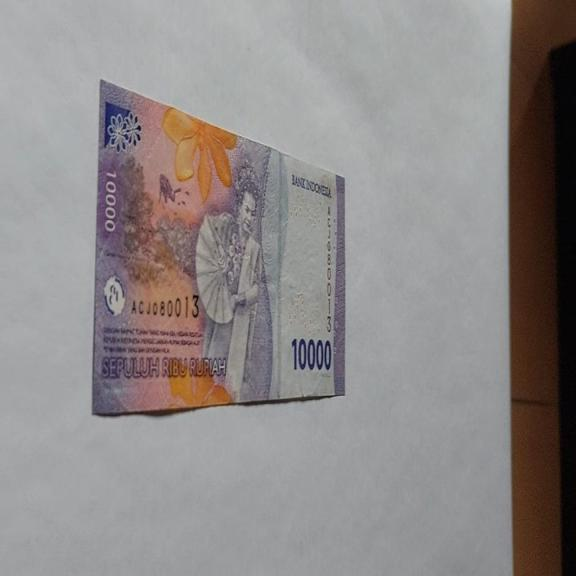Kertas: (92, 78, 346, 416)
